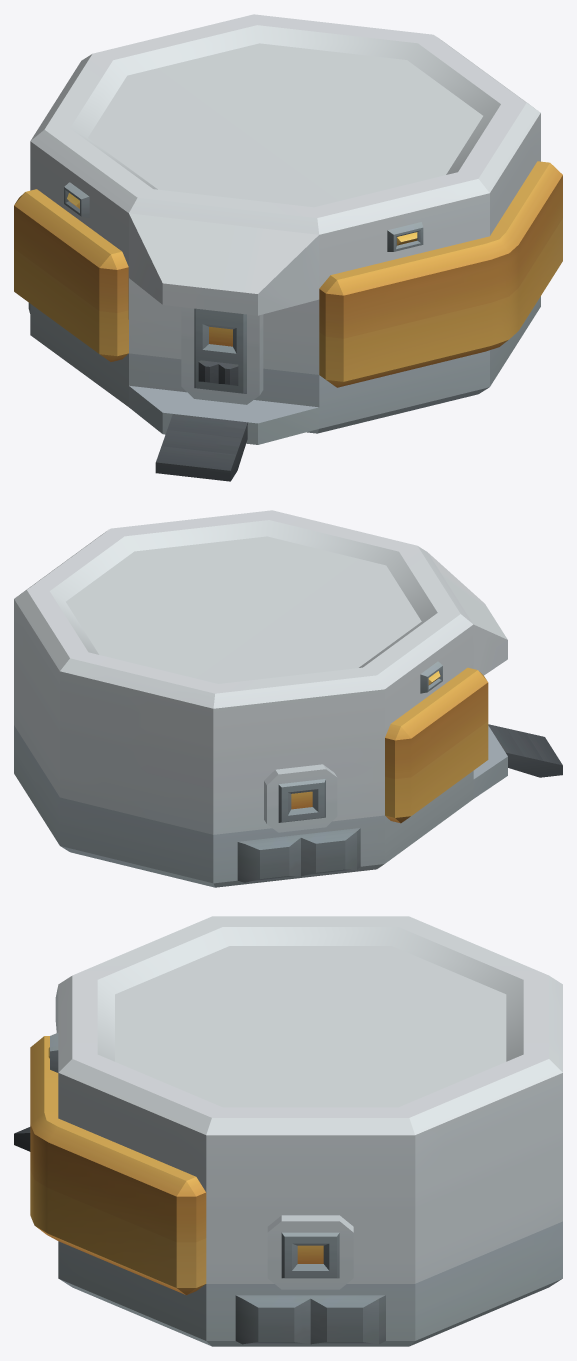
The model's file is basemodule_a.glb.
3 views of the same model, one above another, from view 1: azimuth 30°, elevation 25°; view 2: azimuth 150°, elevation 25°; view 3: azimuth 270°, elevation 25° (orthographic). The views are drawn at different scales.
Visible parts, largest first — view 1: basemodule_A; view 2: basemodule_A; view 3: basemodule_A.
Boxes of the visible parts, box(x1,y1,x2,y2) form: basemodule_A: box(14, 14, 562, 481); basemodule_A: box(14, 510, 562, 887); basemodule_A: box(14, 916, 562, 1346).
Bounding box in the file's own units: 2.25 × 0.9999 × 2.18.
Materials: 1 (1 with a texture image).
